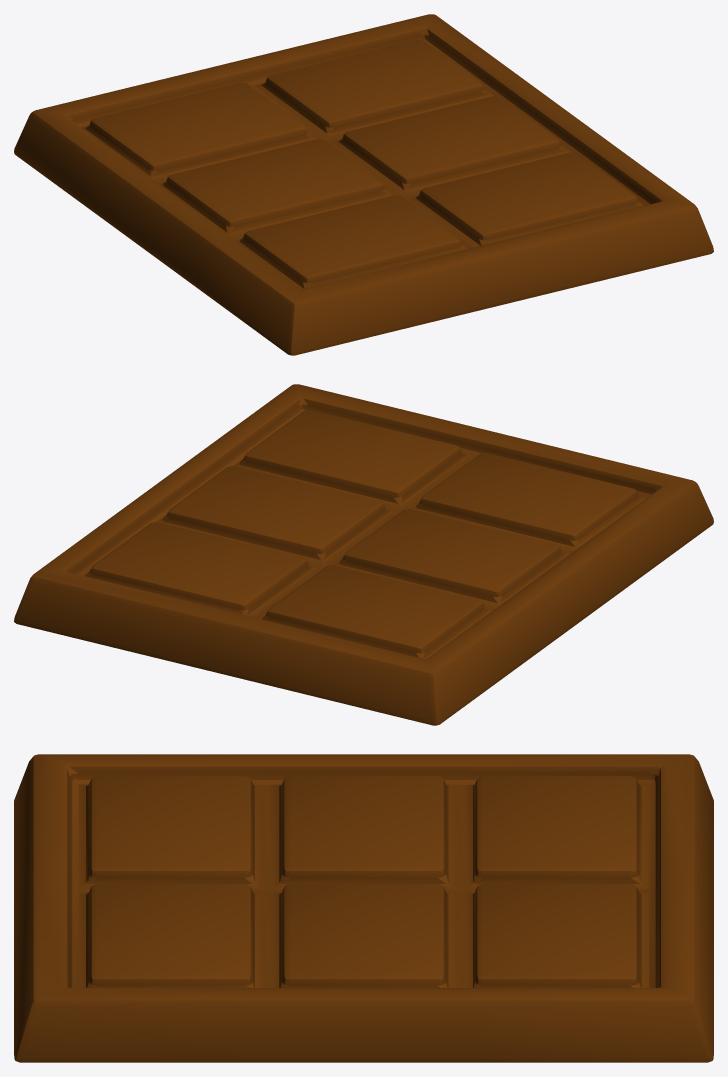
File: SM_Chocolate.fbx
3 views of the same model, one above another, from view 1: azimuth 30°, elevation 25°; view 2: azimuth 150°, elevation 25°; view 3: azimuth 270°, elevation 25° (orthographic). The views are drawn at different scales.
Parts seen in each view (by area): view 1: Chocolate; view 2: Chocolate; view 3: Chocolate.
Boxes of the visible parts, x1,y1,x2,y2 form: Chocolate: (14,14,713,355); Chocolate: (14,384,713,725); Chocolate: (14,754,713,1062).
Bounding box in the file's own units: 5.67 × 0.6051 × 6.43.
